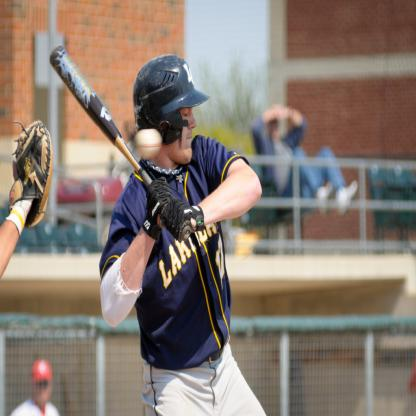Helmet: (127, 54, 207, 154)
